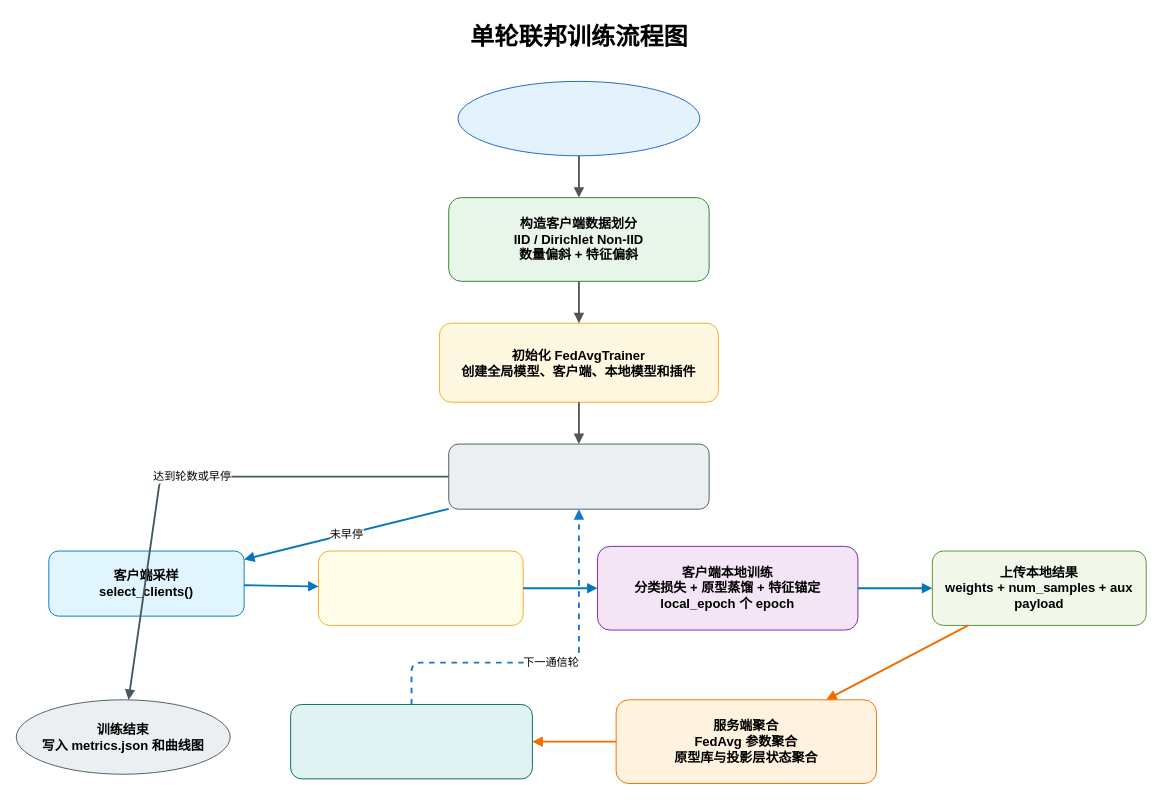
This 1163x800 diagram has some shape labels left out. The shapes that lost their labels are listed below. From the top down, each one's centre as x and y in pixels, then its label:
At (x=578, y=118): "开始实验 读取 options，设置 seed，加载数据集".
At (x=578, y=476): "轮初全局评估 test accuracy / loss".
At (x=420, y=587): "服务端广播 全局模型参数 插件辅助信息".
At (x=411, y=741): "更新 latest_global_model 调整学习率 进入下一轮".
